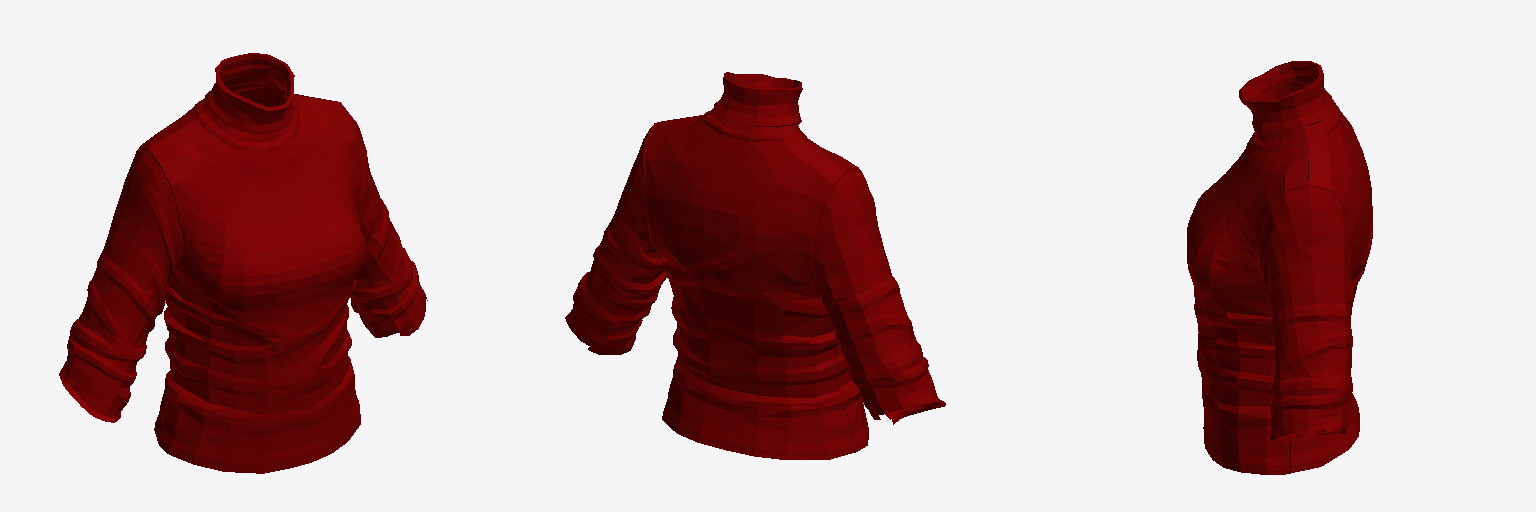
File: turtle4.obj
3 views of the same model, side by side, from view 1: azimuth 30°, elevation 25°; view 2: azimuth 150°, elevation 25°; view 3: azimuth 270°, elevation 25° (orthographic).
Visible parts, largest first — view 1: Woolen_shirt; view 2: Woolen_shirt; view 3: Woolen_shirt.
Part boxes in pixels (x1,y1,x2,y2): Woolen_shirt: (59, 53, 427, 473); Woolen_shirt: (565, 72, 945, 459); Woolen_shirt: (1187, 61, 1372, 474).
Size of the model in its own units: 75.44 by 72.93 by 33.45.